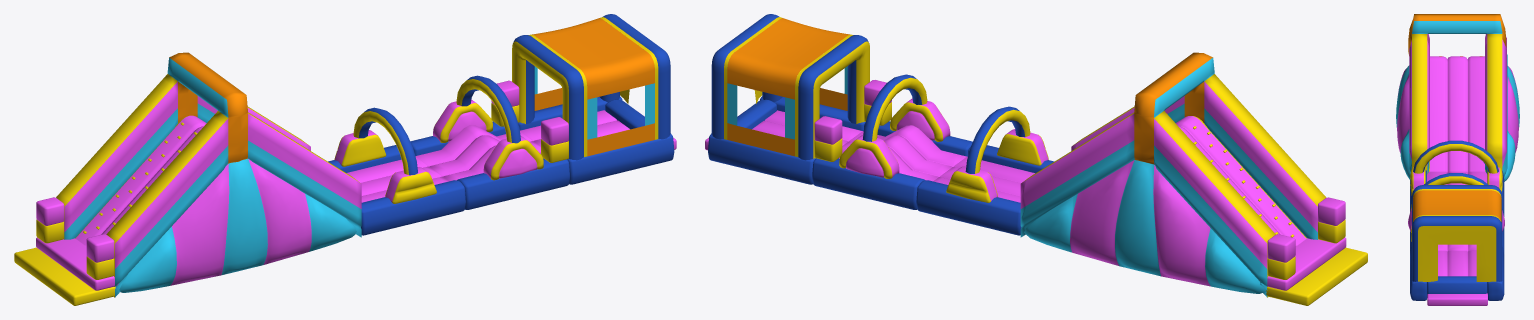
Rendered from bounce_course.glb.
The picture shows the model from 3 angles, left to right: view 1: azimuth 30°, elevation 25°; view 2: azimuth 150°, elevation 25°; view 3: azimuth 270°, elevation 25°; orthographic projection. The views are drawn at different scales.
Parts seen in each view (by area): view 1: Object_4, Object_6; view 2: Object_4, Object_6; view 3: Object_4, Object_6.
Part boxes in pixels (bbox=[...]): Object_4: bbox=[14, 14, 676, 305]; Object_6: bbox=[169, 18, 654, 163]; Object_4: bbox=[705, 14, 1367, 305]; Object_6: bbox=[727, 18, 1212, 164]; Object_4: bbox=[1396, 21, 1519, 305]; Object_6: bbox=[1408, 14, 1506, 221].
Size of the model in its own units: 61.35 by 16.37 by 14.4.
Materials: 2 (2 with a texture image).
